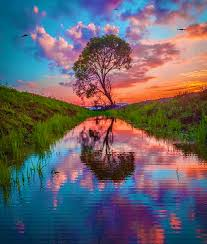lake: (39, 111, 193, 244)
sky: (3, 1, 207, 99)
tree: (74, 32, 129, 108)
